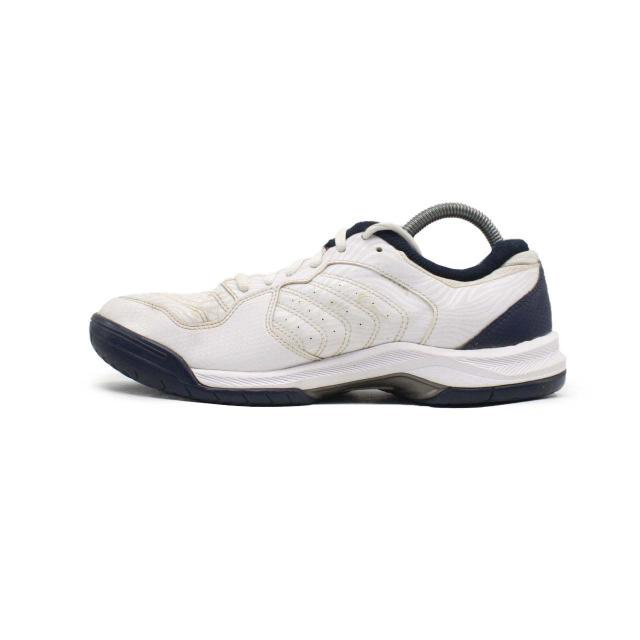heel: (478, 240, 552, 348)
midsole: (91, 311, 568, 407)
uppersole: (96, 219, 487, 370)
